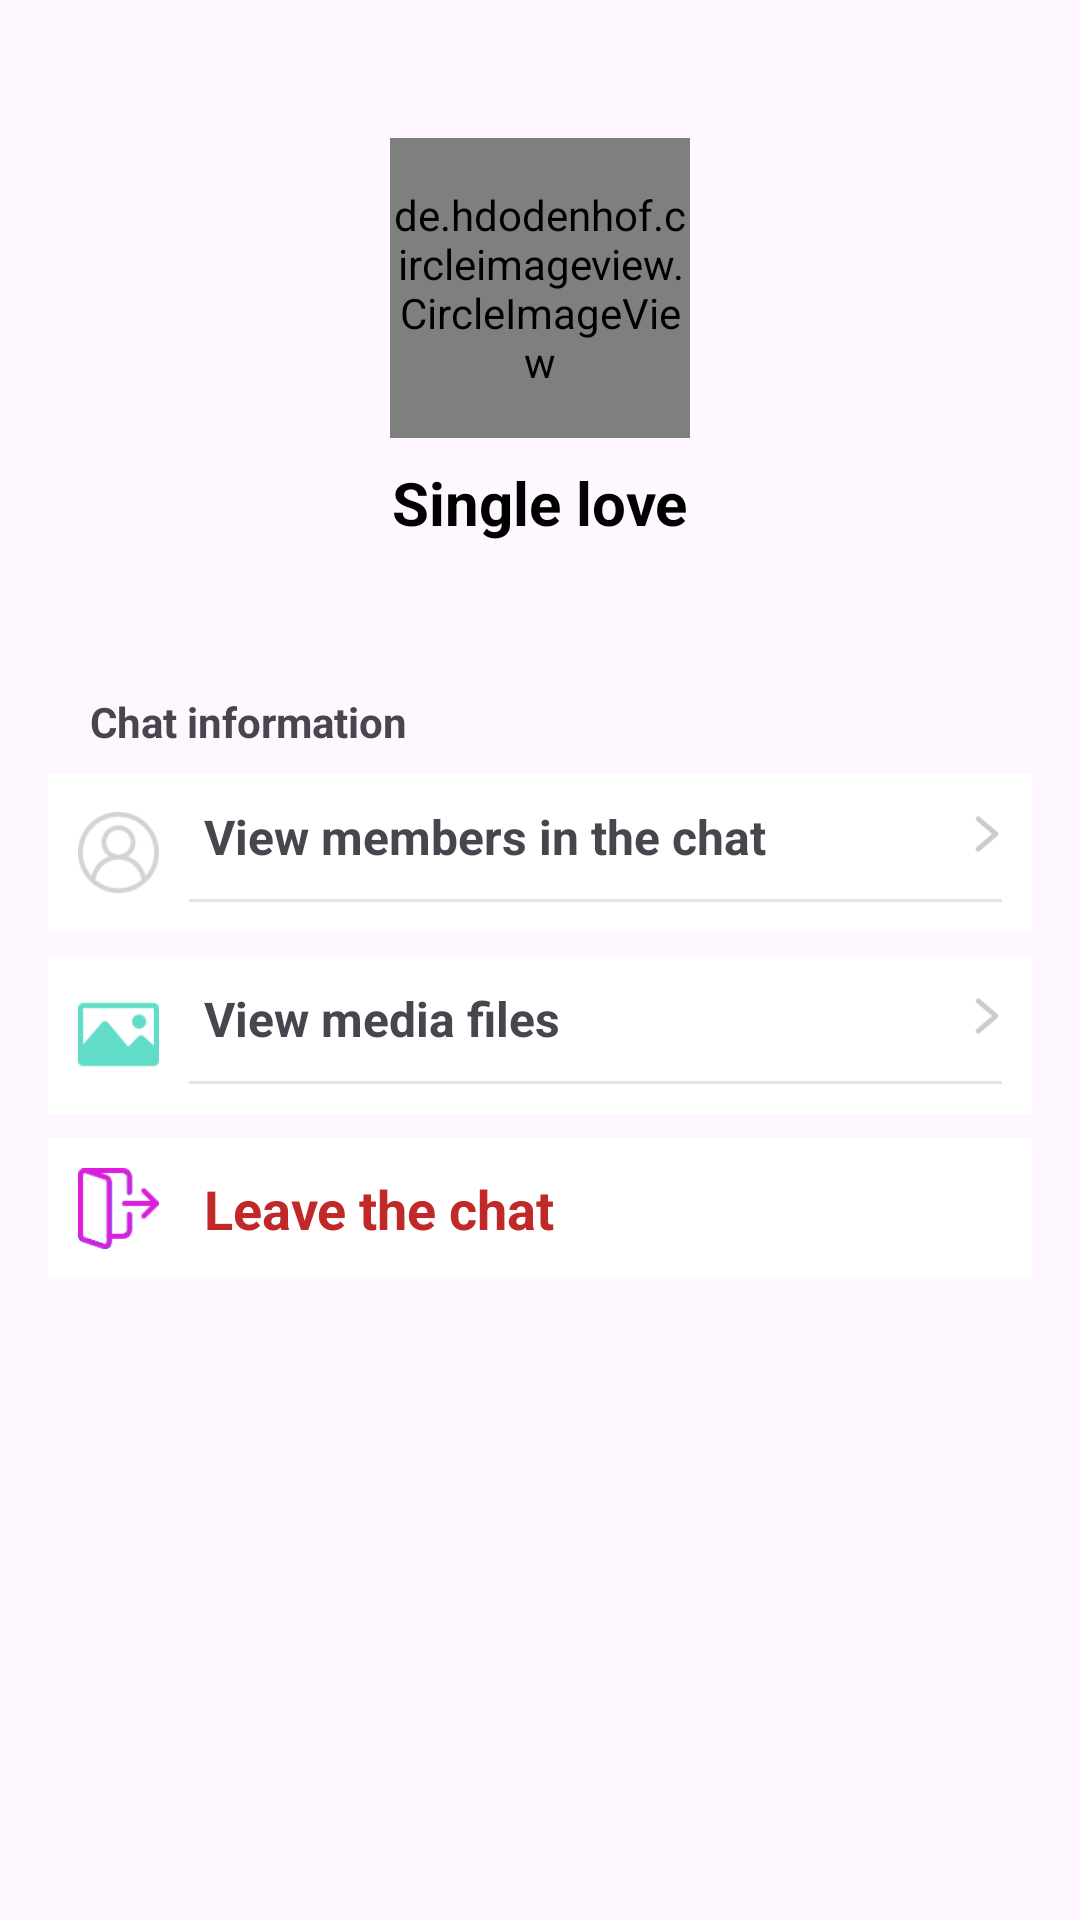

Point at icon controls on the screen. Image size 1080w x 1920h, points as [x,y].
photo: [118,1034]
user: [118,852]
